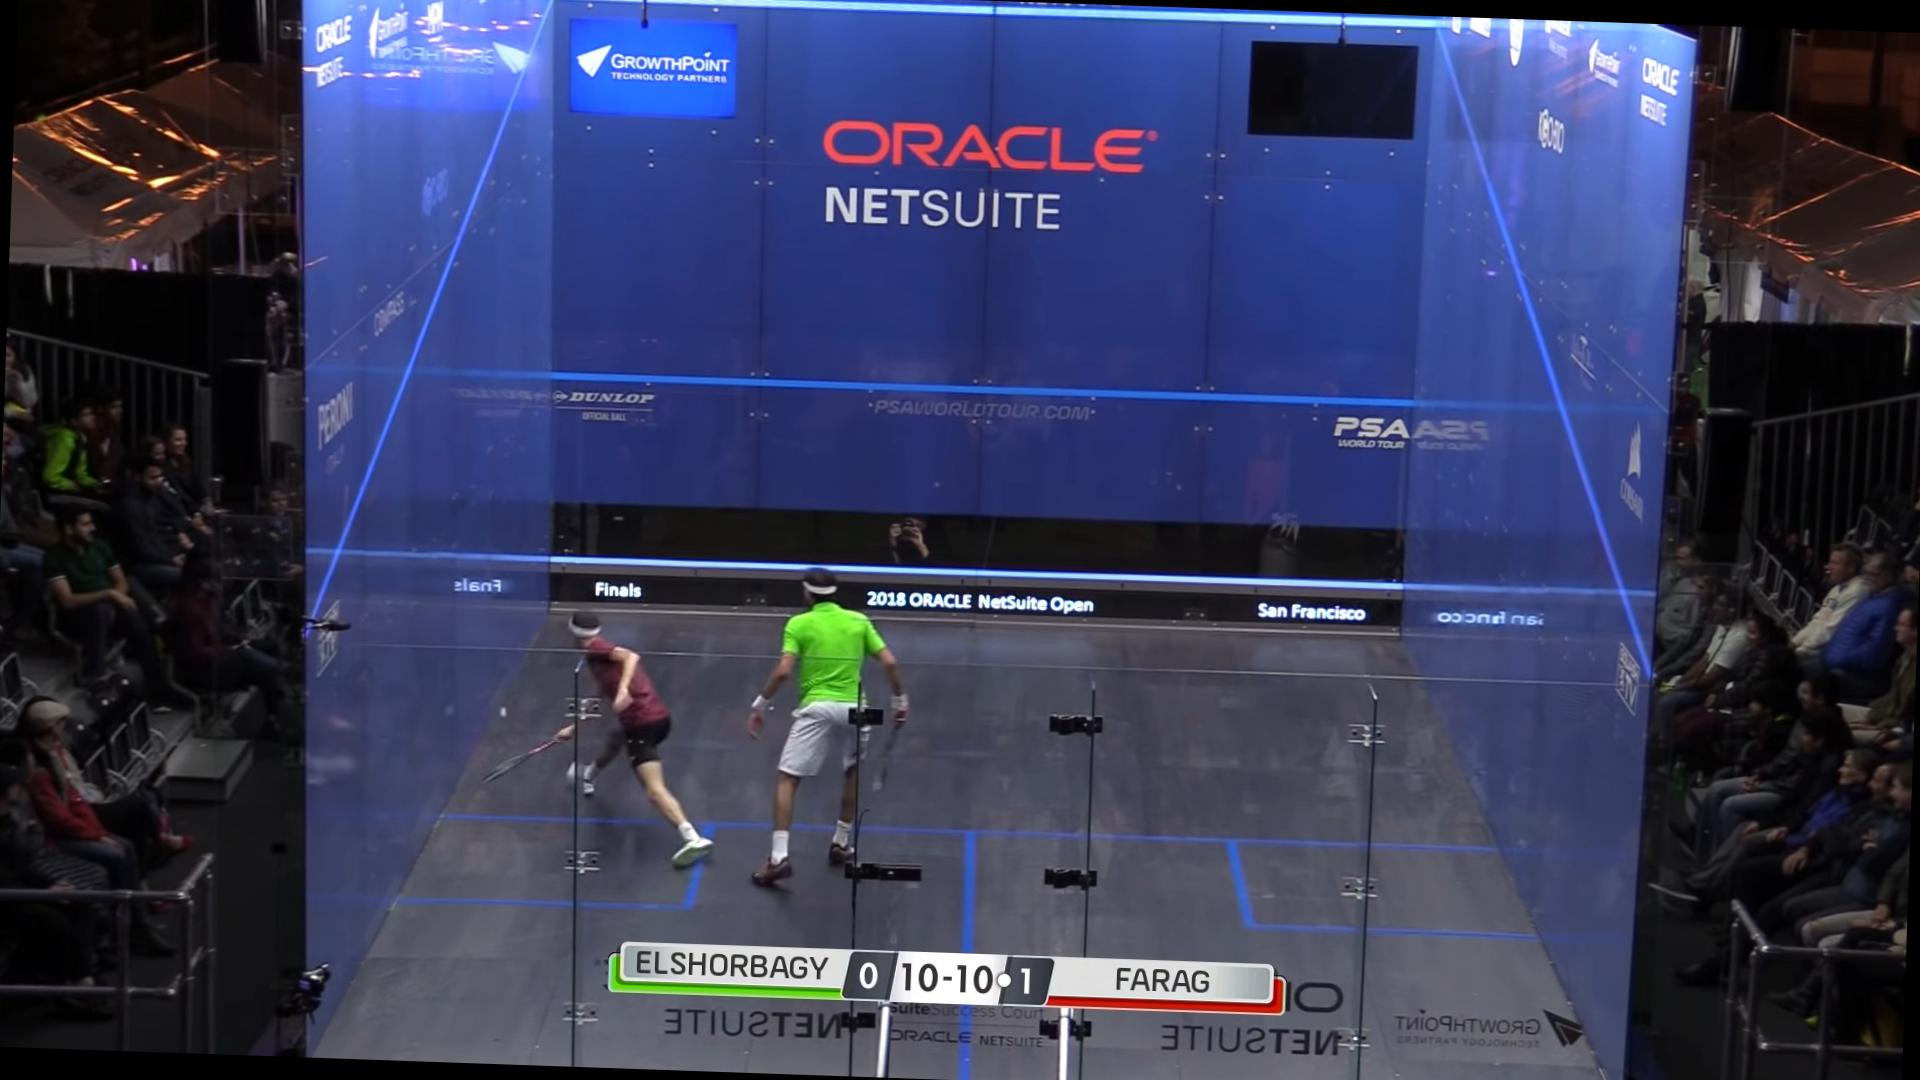Squash-Ball: (491, 699, 516, 727)
